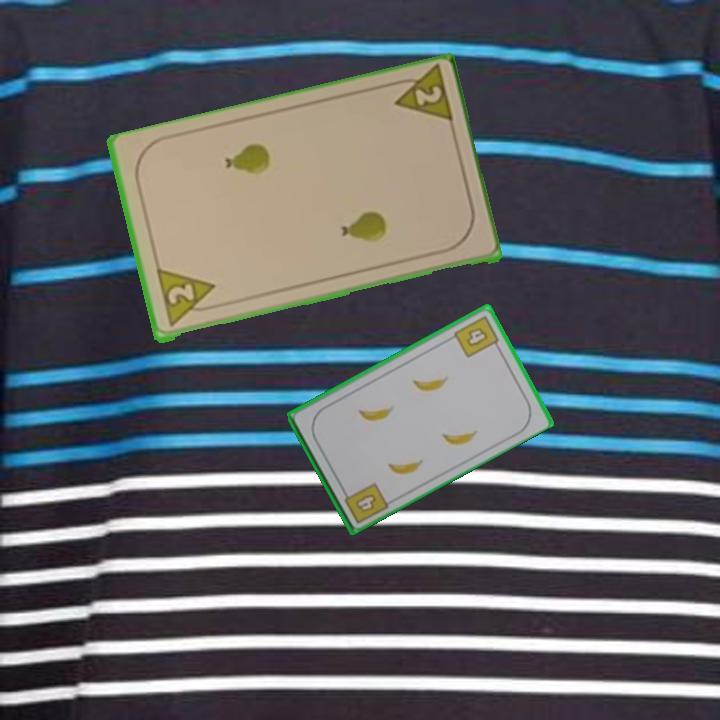2p: (385, 64, 456, 129), (153, 267, 221, 330)
4b: (450, 312, 503, 361), (338, 479, 391, 526)
